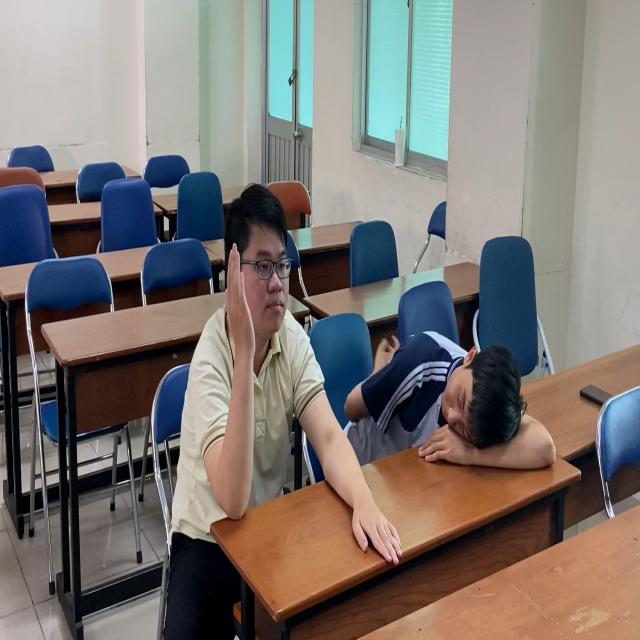raise_hand: (174, 174, 331, 546)
sleep: (357, 322, 559, 489)
